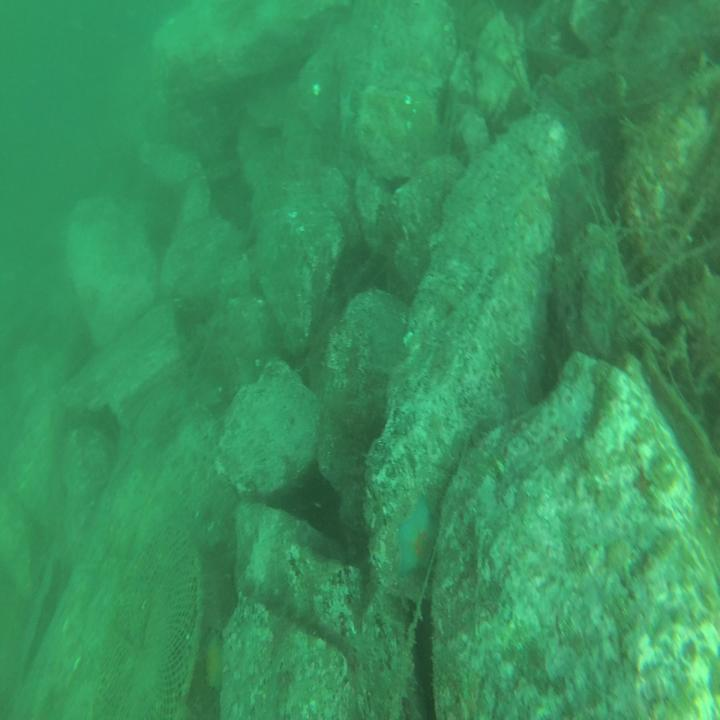echinus: (293, 468, 336, 539)
holothurian: (376, 196, 413, 240)
starfish: (399, 494, 439, 579), (202, 634, 225, 695)
